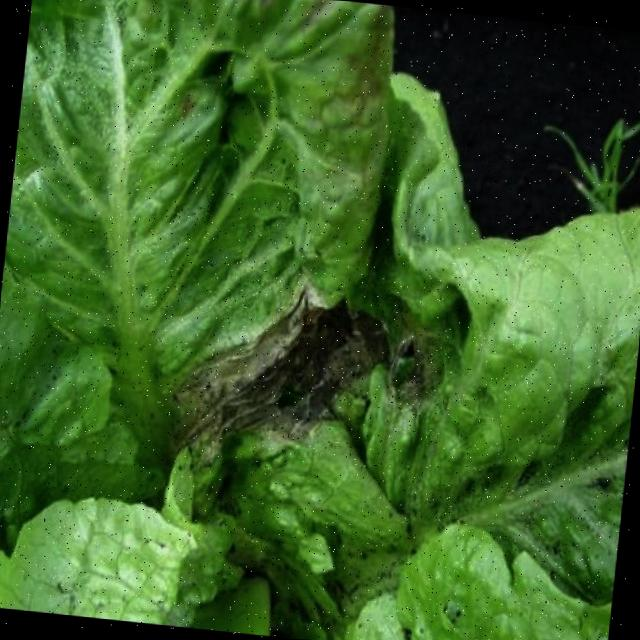Bacterial: (160, 256, 462, 555)
